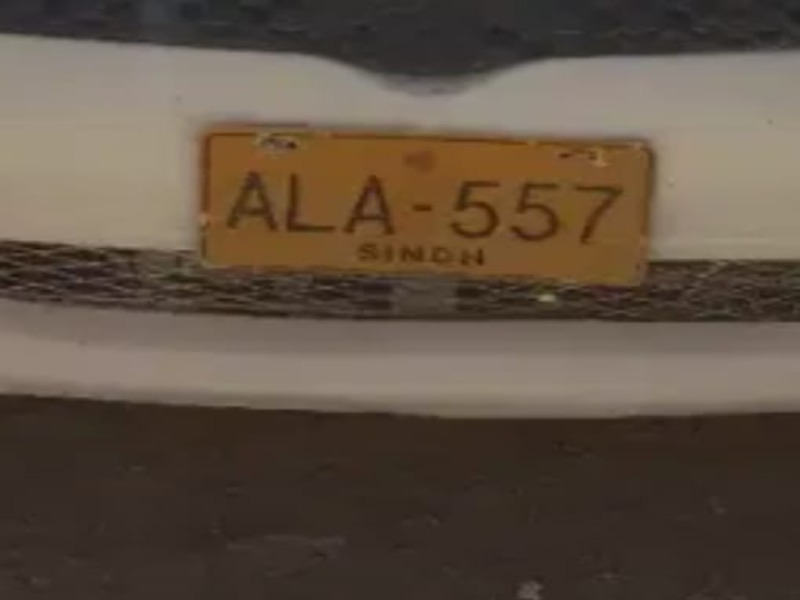License Plate: (196, 123, 657, 287)
